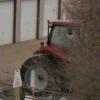Tractor: (16, 14, 89, 86)
